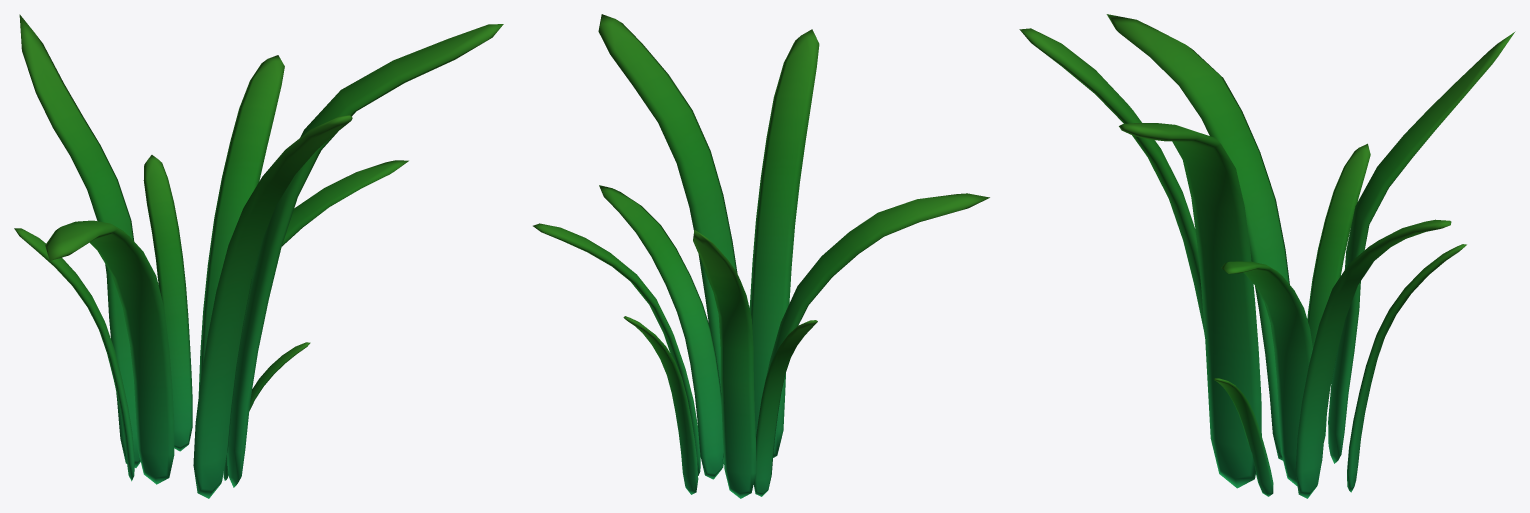
3 renders of one model, left to right at view 1: azimuth 30°, elevation 25°; view 2: azimuth 150°, elevation 25°; view 3: azimuth 270°, elevation 25°, orthographic. The views are drawn at different scales.
Parts seen in each view (by area): view 1: Cube.008; view 2: Cube.008; view 3: Cube.008.
Boxes of the visible parts, x1=… form: Cube.008: x1=14, y1=14, x2=503, y2=498; Cube.008: x1=533, y1=14, x2=989, y2=498; Cube.008: x1=1019, y1=14, x2=1515, y2=498.
Size of the model in its own units: 176 by 165 by 156.
1 material, 1 textured.
